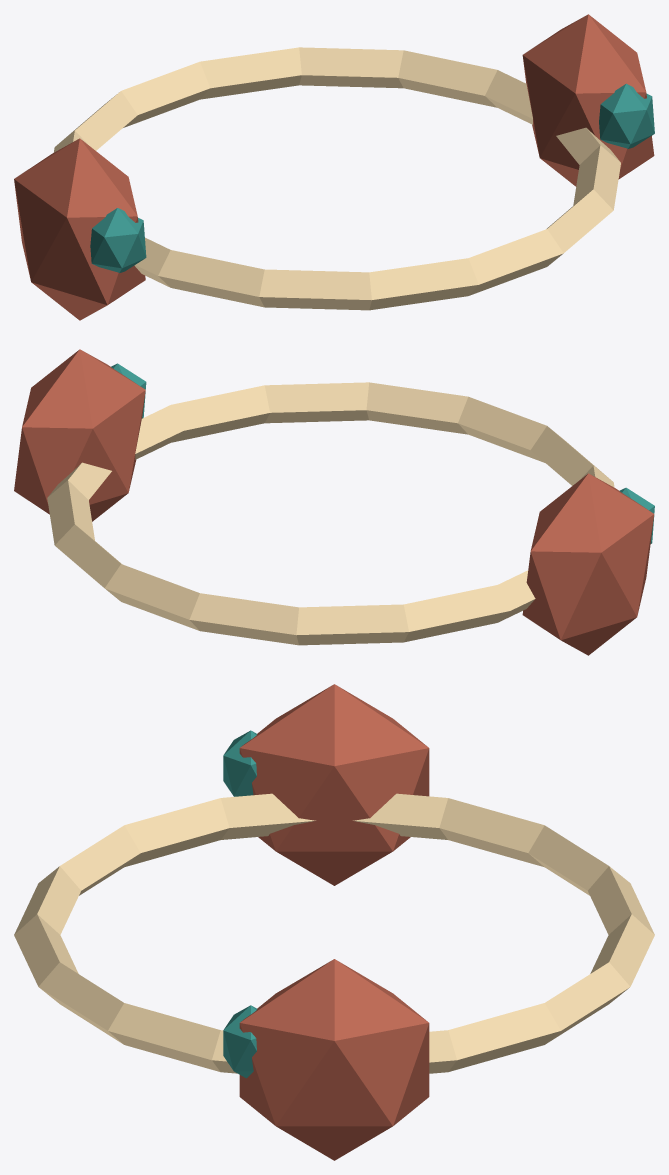
Rendered from outfit_earmuffs.glb.
3 views of the same model, one above another, from view 1: azimuth 30°, elevation 25°; view 2: azimuth 150°, elevation 25°; view 3: azimuth 270°, elevation 25° (orthographic). The views are drawn at different scales.
Parts seen in each view (by area): view 1: headband, muff, muff.001, heart, heart.001; view 2: headband, muff, muff.001; view 3: headband, muff.001, muff, heart.001, heart.
Boxes of the visible parts, left/top/right/bottom form: headband: left=54, top=47, right=620, bottom=310; muff: left=14, top=138, right=145, bottom=320; muff.001: left=522, top=14, right=654, bottom=186; heart: left=90, top=208, right=146, bottom=272; heart.001: left=599, top=83, right=654, bottom=148; headband: left=47, top=382, right=614, bottom=645; muff: left=522, top=473, right=654, bottom=655; muff.001: left=14, top=349, right=145, bottom=521; headband: left=14, top=793, right=654, bottom=1073; muff.001: left=239, top=959, right=429, bottom=1160; muff: left=239, top=684, right=429, bottom=885; heart.001: left=223, top=1005, right=256, bottom=1078; heart: left=223, top=730, right=256, bottom=796.
Bounding box in the file's own units: 0.8342 × 0.24 × 0.69.
